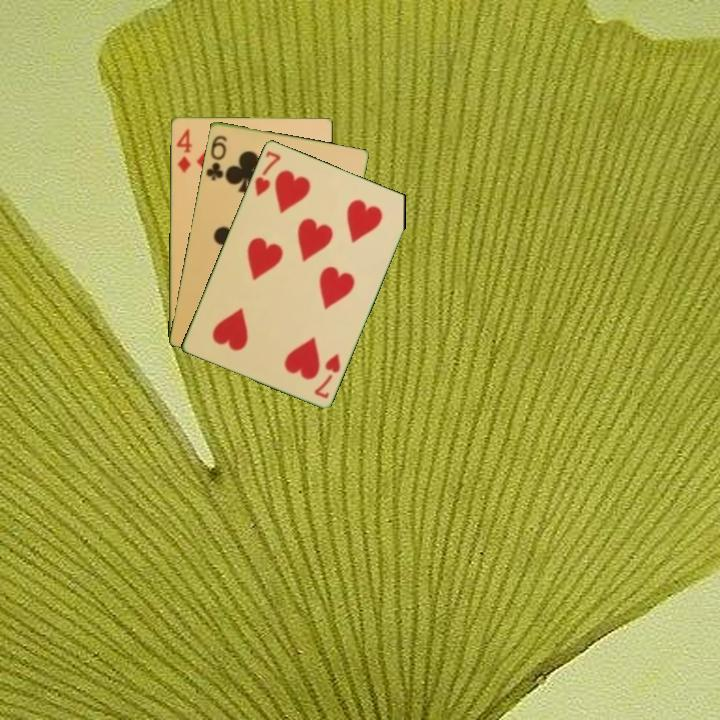4d: (173, 125, 195, 175)
6c: (202, 131, 230, 183)
7h: (251, 147, 284, 199), (311, 349, 343, 401)
